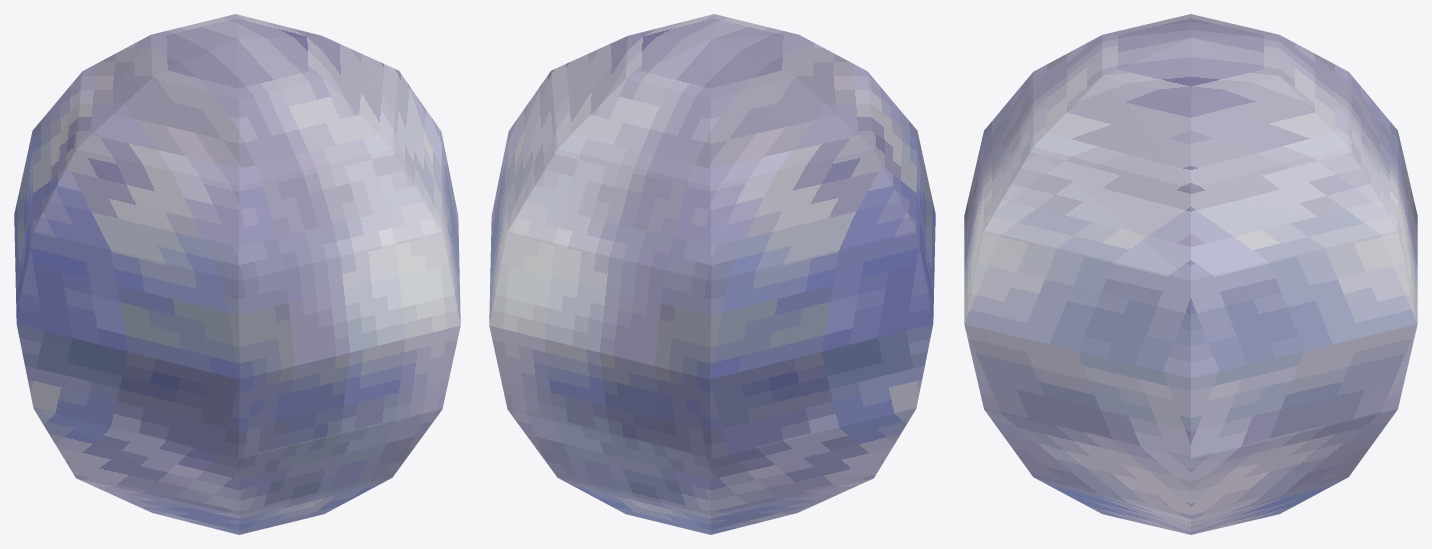
File: o-tama1.glb
3 views of the same model, side by side, from view 1: azimuth 30°, elevation 25°; view 2: azimuth 150°, elevation 25°; view 3: azimuth 270°, elevation 25° (orthographic).
Parts seen in each view (by area): view 1: o_tama1; view 2: o_tama1; view 3: o_tama1.
Boxes of the visible parts, box(x1,y1,x2,y2) form: o_tama1: box(14, 14, 460, 534); o_tama1: box(489, 14, 935, 534); o_tama1: box(964, 14, 1417, 534).
Bounding box in the file's own units: 52 × 53 × 46.
1 material, 1 textured.
